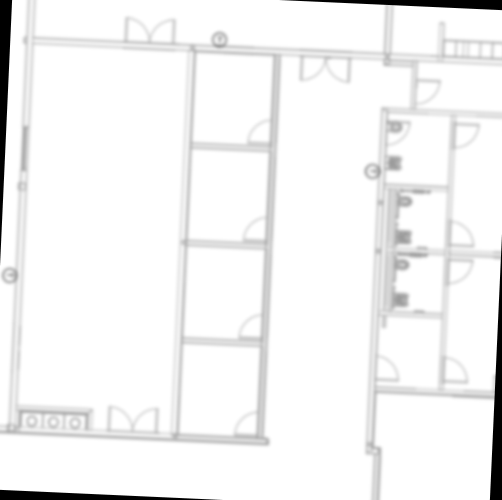door: (230, 407, 263, 440), (438, 354, 471, 386), (411, 76, 443, 108), (450, 119, 481, 152), (371, 351, 402, 384), (444, 257, 475, 289), (236, 311, 267, 342), (447, 217, 477, 249), (239, 214, 270, 244), (382, 117, 412, 148), (243, 118, 274, 147)
double door: (120, 13, 180, 48), (104, 403, 161, 438), (298, 53, 354, 86)
window: (12, 119, 35, 177)
